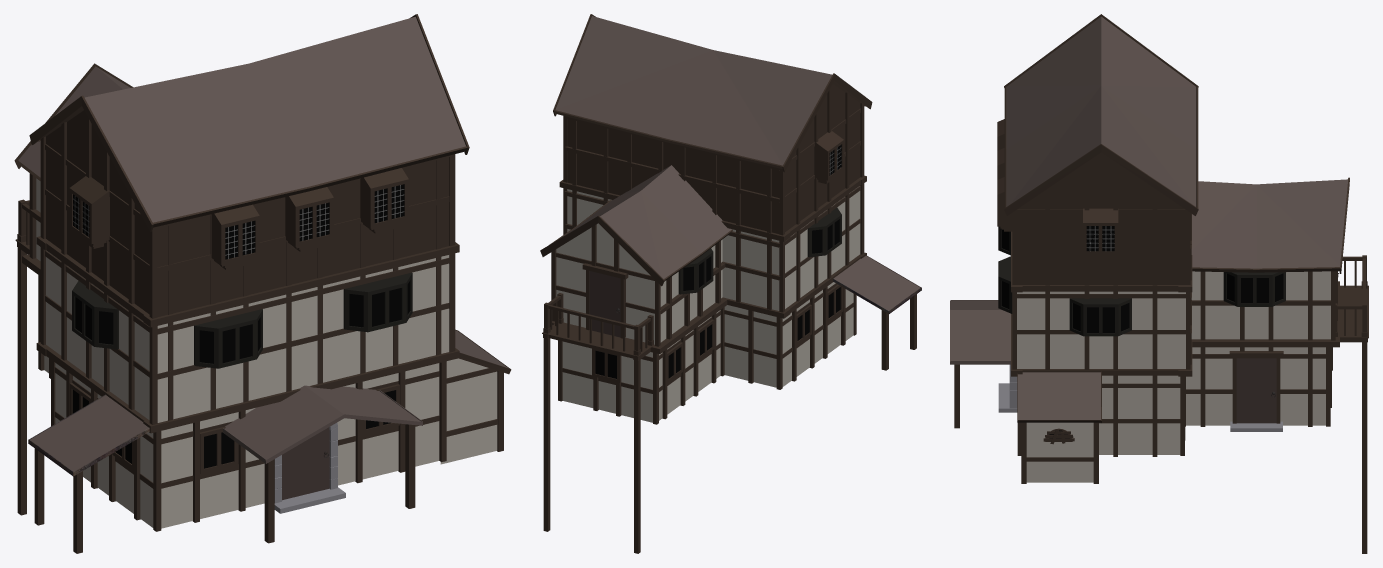
The model's file is House_Cap_2.glb.
The picture shows the model from 3 angles, left to right: view 1: azimuth 30°, elevation 25°; view 2: azimuth 150°, elevation 25°; view 3: azimuth 270°, elevation 25°; orthographic projection. The views are drawn at different scales.
Visible parts, largest first — view 1: House_Cap_2; view 2: House_Cap_2; view 3: House_Cap_2.
Part boxes in pixels (<box>): House_Cap_2: <box>14,14,511,553</box>; House_Cap_2: <box>540,14,921,553</box>; House_Cap_2: <box>950,14,1368,553</box>.
Bounding box in the file's own units: 8.53 × 10.42 × 8.8.
31 materials, 31 textured.
